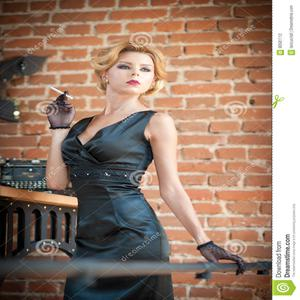cigarette: (49, 87, 75, 101)
